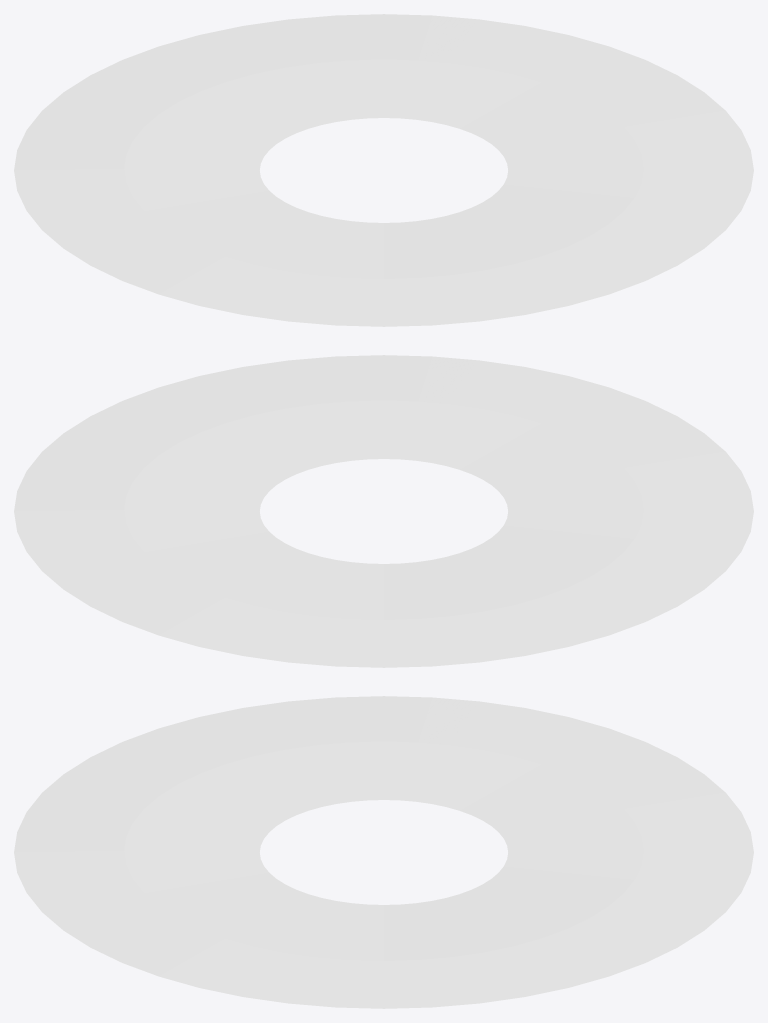
Rendered from foam mesh.fbx.
The picture shows the model from 3 angles, top to bottom: view 1: azimuth 30°, elevation 25°; view 2: azimuth 150°, elevation 25°; view 3: azimuth 270°, elevation 25°; orthographic projection.
Parts seen in each view (by area): view 1: Torus.010; view 2: Torus.010; view 3: Torus.010.
Part boxes in pixels (x1=…): Torus.010: x1=14, y1=14, x2=753, y2=326; Torus.010: x1=14, y1=355, x2=753, y2=667; Torus.010: x1=14, y1=696, x2=753, y2=1008.
Size of the model in its own units: 225 by 0.3994 by 225.
1 material, 1 textured.
